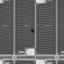dust: (30, 28, 34, 32)
